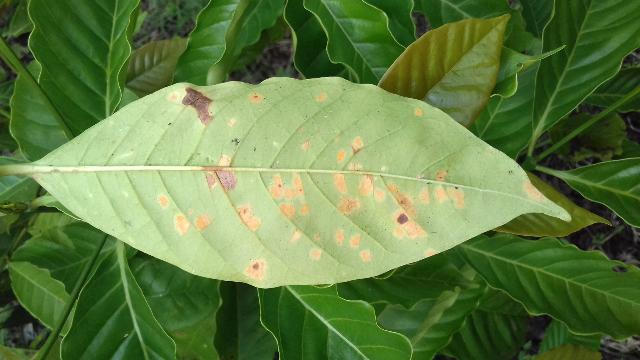rust_level_3: (28, 77, 571, 291)
